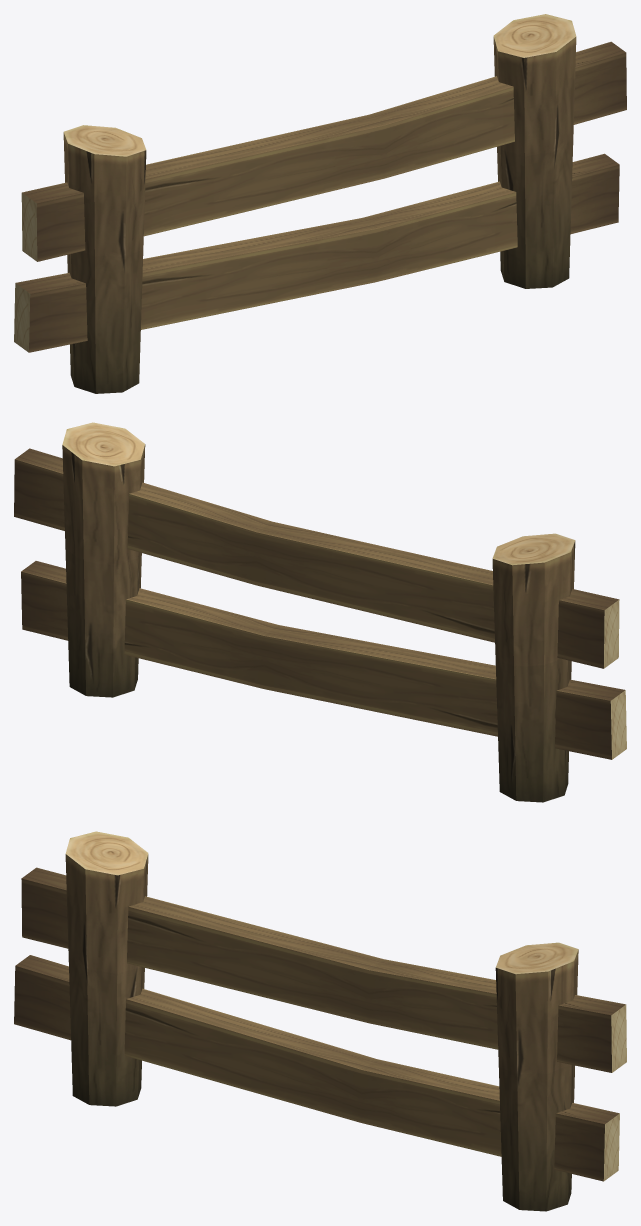
File: wooden_fence_53.fbx
3 renders of one model, top to bottom at view 1: azimuth 30°, elevation 25°; view 2: azimuth 150°, elevation 25°; view 3: azimuth 330°, elevation 25°, orthographic.
Visible parts, largest first — view 1: wooden_fence_53:Mesh; view 2: wooden_fence_53:Mesh; view 3: wooden_fence_53:Mesh.
Boxes of the visible parts, left/top/right/bottom form: wooden_fence_53:Mesh: left=14, top=14, right=626, bottom=393; wooden_fence_53:Mesh: left=14, top=422, right=626, bottom=802; wooden_fence_53:Mesh: left=14, top=831, right=626, bottom=1211.
Size of the model in its own units: 7.56 by 2.96 by 0.9473.
